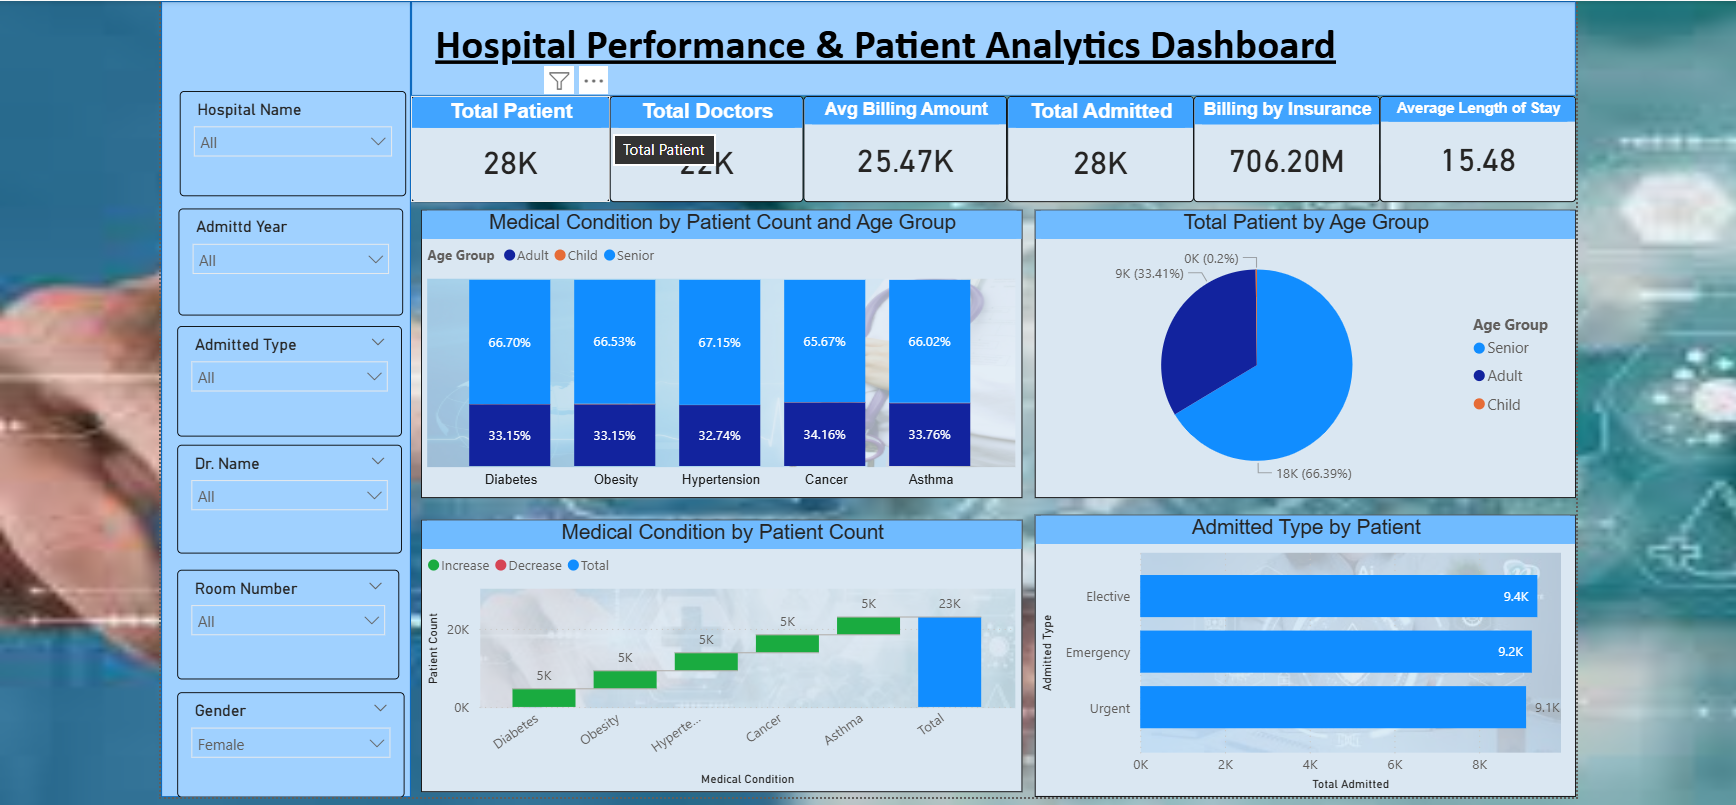

The page's visual inventory and layout, read from the dashboard file:
{"tool":"powerbi","page":{"name":"Dashboard 2","canvas":[1280,720],"ordinal":5},"visuals":[{"type":"shape","box":[0,0,226.1,720.2],"z":0},{"type":"shape","box":[226.1,0,1053.8,85.9],"z":1000},{"type":"card","title":"Total Patient","fields":{"Values":["healthcare_dataset.Total_Patient"]},"box":[226.1,85.9,179.8,96.1],"z":2000},{"type":"card","title":"Total Doctors","fields":{"Values":["Clean_Dataset.Total Docter"]},"box":[405.9,85.9,175.3,96.1],"z":3000},{"type":"card","title":"Avg Billing Amount","fields":{"Values":["Clean_Dataset.Avg Billing Amount"]},"box":[581.2,85.9,184.3,96.1],"z":4000},{"type":"card","title":"Total Admitted","fields":{"Values":["Clean_Dataset.Total Admitted"]},"box":[765.5,85.9,168.5,96.1],"z":5000},{"type":"card","title":"Billing by Insurance","fields":{"Values":["Clean_Dataset.Billing by Insurance"]},"box":[933.9,85.9,168.5,96.1],"z":6000},{"type":"card","title":"Average Length of Stay","fields":{"Values":["Clean_Dataset.Average Length of Stay"]},"box":[1102.4,85.9,177.5,96.1],"z":7000},{"type":"hundredPercentStackedColumnChart","title":" Medical Condition by  Patient Count and Age Group","fields":{"Category":["healthcare_dataset.Medical Condition"],"Y":["Clean_Dataset.Patient Count"],"Series":["Clean_Dataset.Age Group"]},"box":[235.2,188.8,543.8,261.2],"z":8000},{"type":"pieChart","title":"Total Patient by Age Group","fields":{"Y":["healthcare_dataset.Total_Patient"],"Category":["Clean_Dataset.Age Group"]},"box":[790.3,188.8,489.6,261.2],"z":9000},{"type":"barChart","title":"Admitted Type by Patient  ","fields":{"Category":["healthcare_dataset.Admitted Type"],"Y":["Clean_Dataset.Total Admitted"]},"box":[790.3,464.7,489.6,255.5],"z":10000},{"type":"slicer","fields":{"Values":["Clean_Dataset.Hospital"]},"box":[17.4,81.4,204.7,95.3],"z":11000},{"type":"slicer","fields":{"Values":["Clean_Dataset.Admittd Year"]},"box":[16.3,187.2,203.5,96.5],"z":12000},{"type":"slicer","fields":{"Values":["Clean_Dataset.Admitted Type"]},"box":[15.1,294.2,203.5,100],"z":13000},{"type":"slicer","fields":{"Values":["Clean_Dataset.Doctor_Name"]},"box":[14.7,401.4,203.5,98.4],"z":14000},{"type":"slicer","fields":{"Values":["Clean_Dataset.Gender"]},"box":[14.7,625.3,205.8,95],"z":15000},{"type":"slicer","fields":{"Values":["Clean_Dataset.Room Number"]},"box":[15.1,514,201.2,98.8],"z":16000},{"type":"waterfallChart","title":" Medical Condition by Patient Count","fields":{"Category":["healthcare_dataset.Medical Condition"],"Y":["Clean_Dataset.Patient Count"]},"box":[234.9,469.8,544.2,246.5],"z":17000},{"type":"textbox","box":[243,11.6,965.1,69.8],"z":18000}]}

Visuals, with their boxes on the page's 1280x720 design canvas (x1, y1, x2, y2). These are canvas units, not pixel positions in the 1736x805 screenshot, which may show the page scaled, cropped or inside an application window:
shape: pyautogui.locateOnScreen(0, 0, 226, 720)
shape: pyautogui.locateOnScreen(226, 0, 1280, 86)
"Total Patient" card: pyautogui.locateOnScreen(226, 86, 406, 182)
"Total Doctors" card: pyautogui.locateOnScreen(406, 86, 581, 182)
"Avg Billing Amount" card: pyautogui.locateOnScreen(581, 86, 766, 182)
"Total Admitted" card: pyautogui.locateOnScreen(766, 86, 934, 182)
"Billing by Insurance" card: pyautogui.locateOnScreen(934, 86, 1102, 182)
"Average Length of Stay" card: pyautogui.locateOnScreen(1102, 86, 1280, 182)
" Medical Condition by  Patient Count and Age Group" hundredPercentStackedColumnChart: pyautogui.locateOnScreen(235, 189, 779, 450)
"Total Patient by Age Group" pieChart: pyautogui.locateOnScreen(790, 189, 1280, 450)
"Admitted Type by Patient  " barChart: pyautogui.locateOnScreen(790, 465, 1280, 720)
slicer - Clean_Dataset.Hospital: pyautogui.locateOnScreen(17, 81, 222, 177)
slicer - Clean_Dataset.Admittd Year: pyautogui.locateOnScreen(16, 187, 220, 284)
slicer - Clean_Dataset.Admitted Type: pyautogui.locateOnScreen(15, 294, 219, 394)
slicer - Clean_Dataset.Doctor_Name: pyautogui.locateOnScreen(15, 401, 218, 500)
slicer - Clean_Dataset.Gender: pyautogui.locateOnScreen(15, 625, 220, 720)
slicer - Clean_Dataset.Room Number: pyautogui.locateOnScreen(15, 514, 216, 613)
" Medical Condition by Patient Count" waterfallChart: pyautogui.locateOnScreen(235, 470, 779, 716)
textbox: pyautogui.locateOnScreen(243, 12, 1208, 81)
